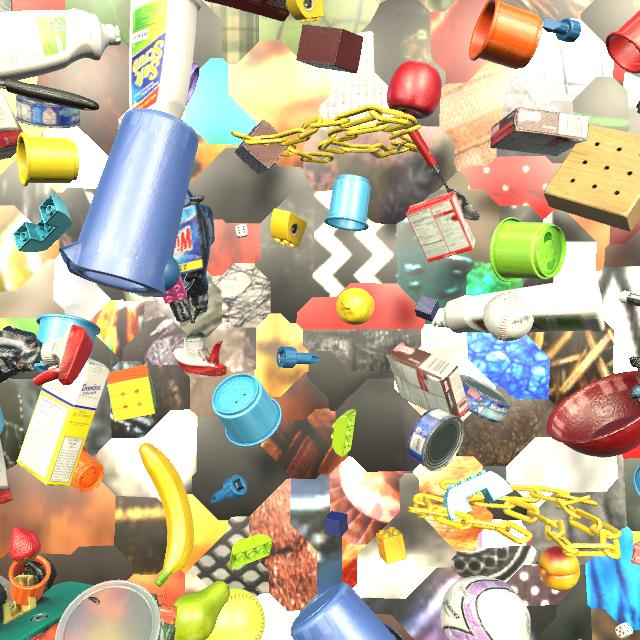ycb_003_cracker_box: (204, 0, 290, 22), (0, 88, 24, 160), (0, 441, 13, 505)
ycb_004_sugar_box: (17, 358, 110, 486)
ycb_007_tuna_fish_can: (408, 408, 465, 471), (460, 375, 513, 423), (16, 95, 81, 129)
ycb_008_pudding_box: (386, 342, 469, 422), (490, 107, 589, 156), (0, 0, 12, 12)
ycb_009_gelatin_box: (405, 191, 476, 263), (631, 541, 640, 565)
ycb_011_banana: (139, 443, 194, 587)
ycb_012_strawberry: (9, 527, 41, 563)
ycb_013_apple: (387, 61, 442, 119)
ycb_014_lemon: (336, 288, 375, 325)
ycb_015_peach: (538, 546, 580, 591)
ycb_016_pear: (173, 581, 230, 640)
